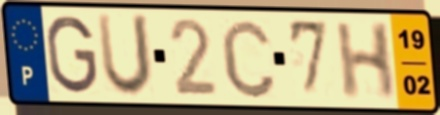2: (167, 16, 220, 98)
7: (287, 17, 332, 102)
C: (218, 16, 279, 101)
G: (44, 13, 100, 96)
H: (333, 20, 397, 102)
U: (94, 11, 155, 100)
